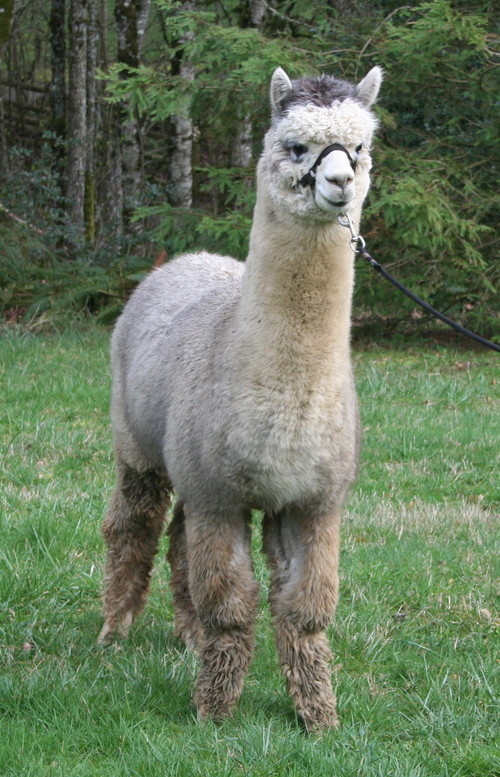alpaca: (95, 64, 384, 733)
